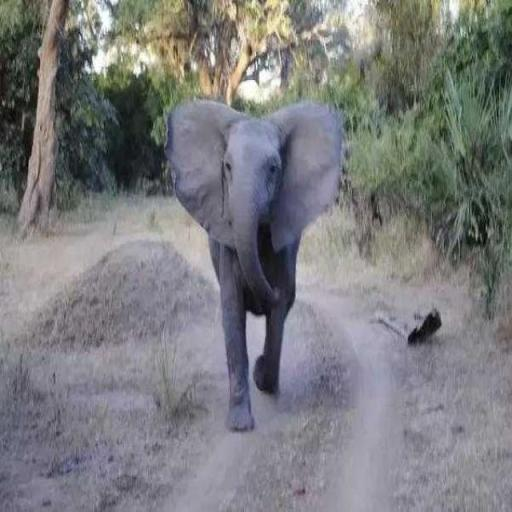Elephant: (163, 96, 349, 432)
